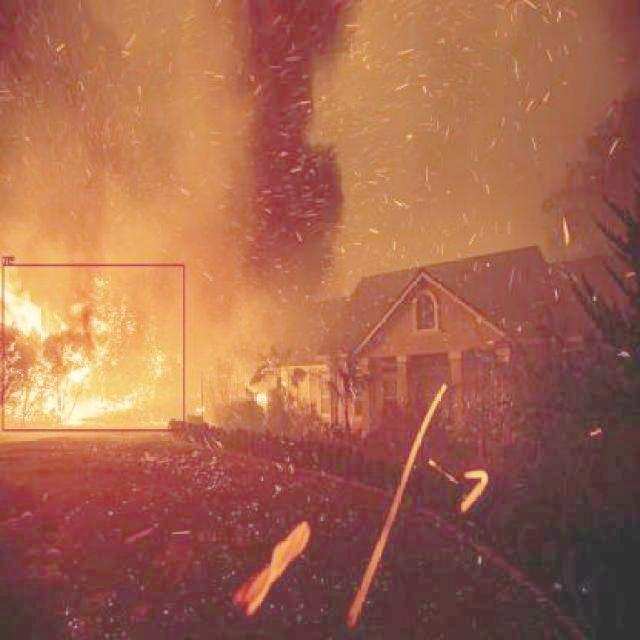fire: (2, 264, 185, 432)
